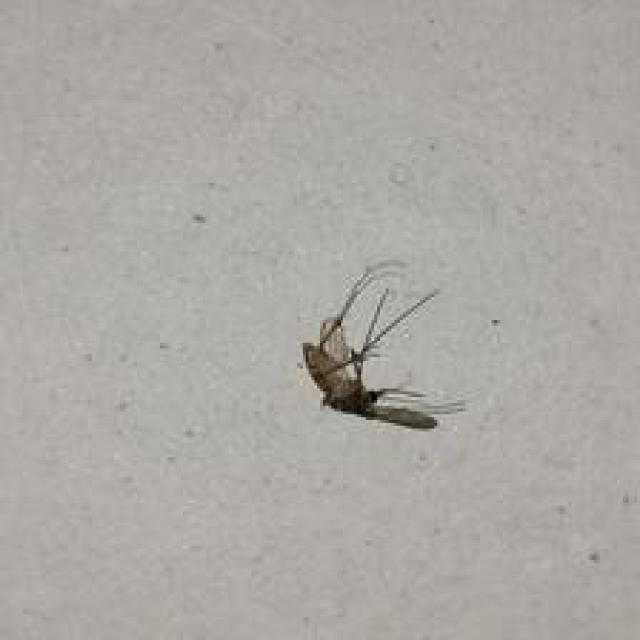Culex: (299, 260, 467, 431)
